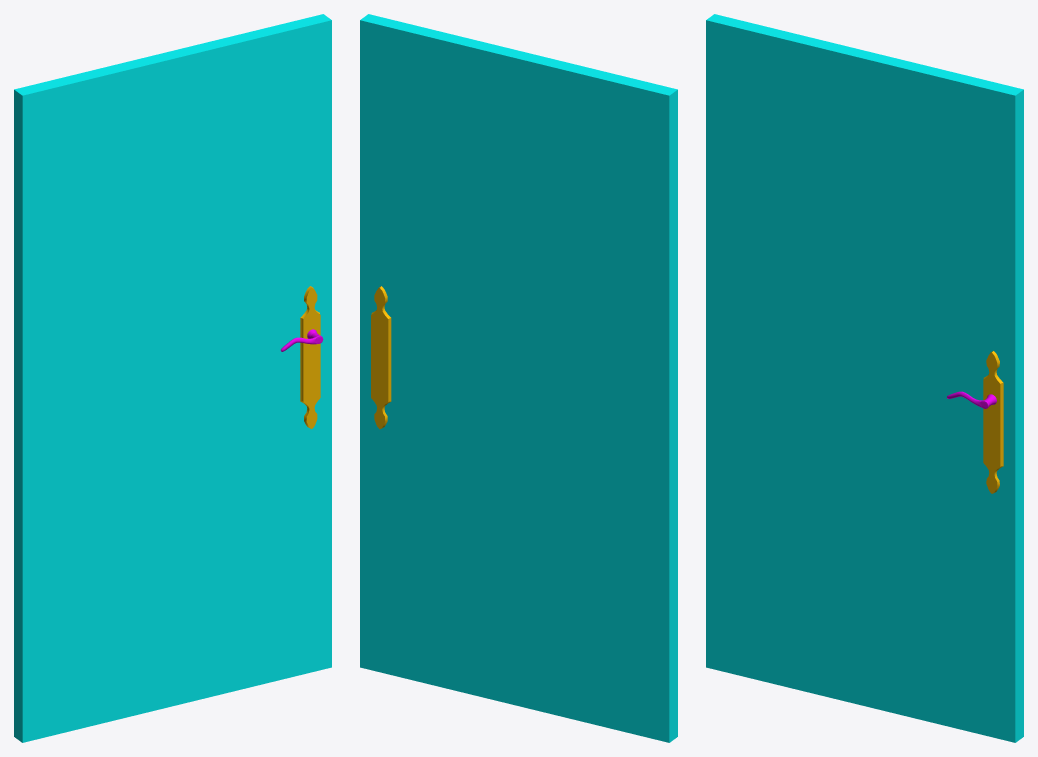
File: test door.FBX
3 views of the same model, side by side, from view 1: azimuth 30°, elevation 25°; view 2: azimuth 150°, elevation 25°; view 3: azimuth 330°, elevation 25° (orthographic).
Visible parts, largest first — view 1: door; view 2: door; view 3: door.
Part boxes in pixels (x1,y1,x2,y2): door: (14,14,331,742); door: (360,14,677,742); door: (706,14,1023,742).
Size of the model in its own units: 10 by 1.13 by 19.98.
